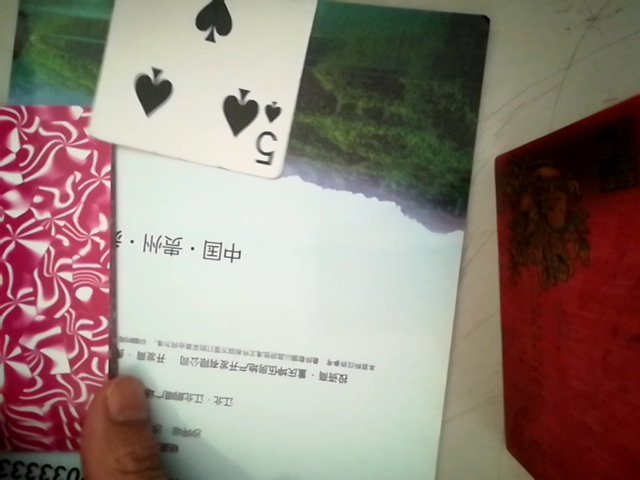ht 5: (78, 0, 342, 172)
